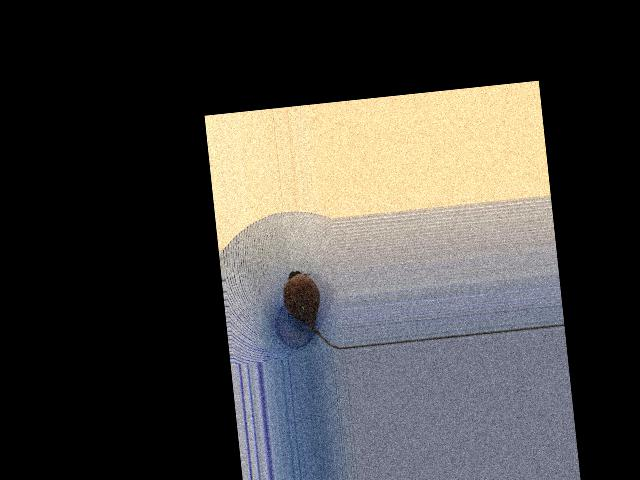beet: (280, 266, 345, 354)
